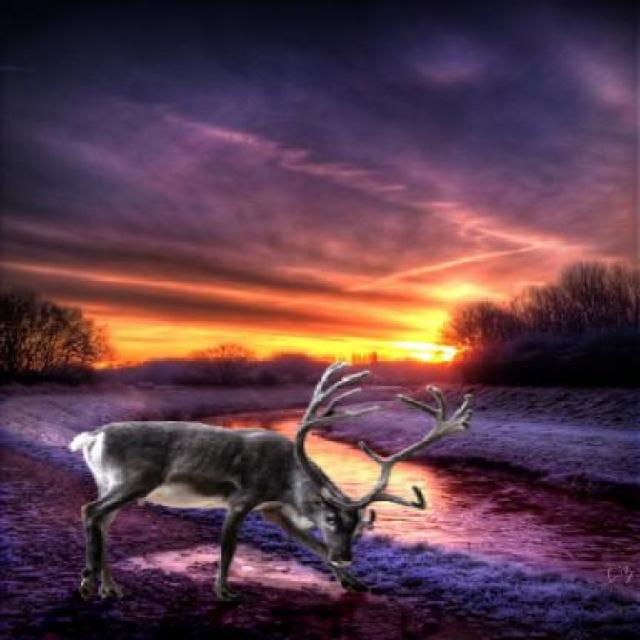Deer: (71, 363, 472, 597)
